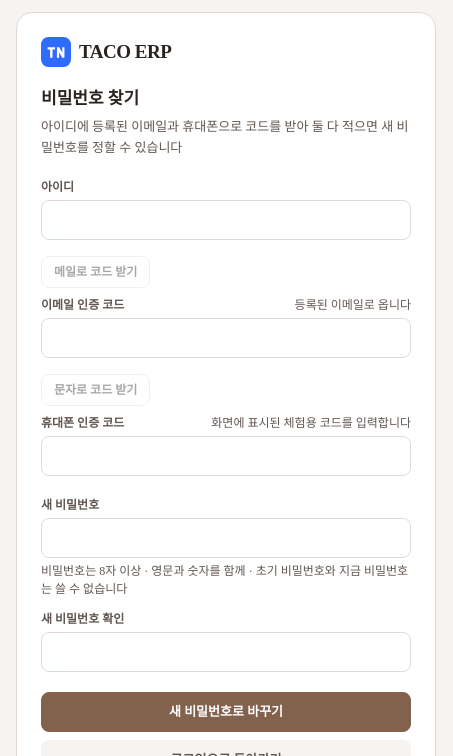
비밀번호 찾기 화면 › 서버 거절 문장을 누른 자리 옆에 그대로 보인다 — 코드 받기는 단추 아래 · 마치기는 마치기 위
Expected: the text "비밀번호는 8자 이상 · 영문과 숫자를 함께 · 초기 비밀번호와 지금 비밀번호는 쓸 수 없습니다" is shown, [41,562,411,598]
Type "kim@tnacademy.kr" into the field labelled "아이디".
click(226, 220); type("kim@tnacademy.kr")  # box [41,200,411,240]
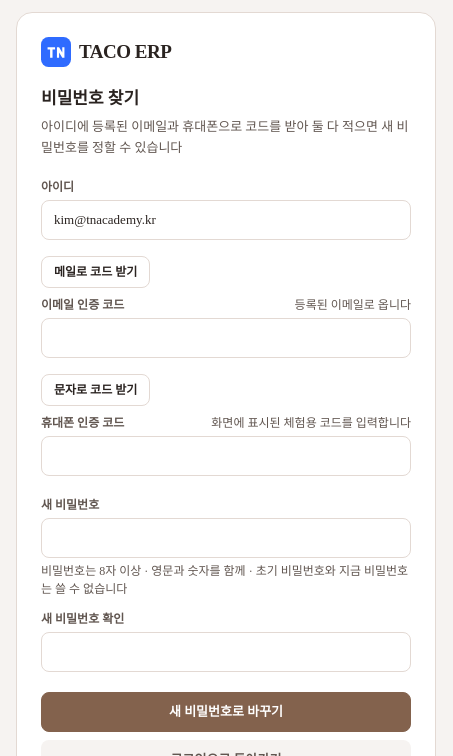
Click the button "문자로 코드 받기".
click(96, 390)  # box [41,374,150,406]
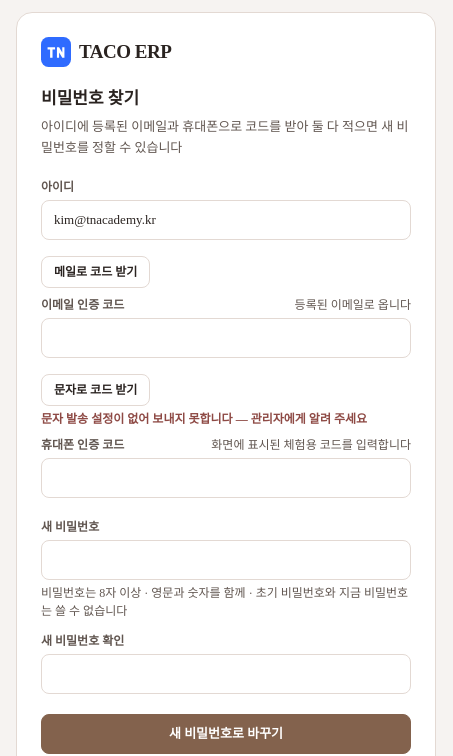
Expected: the message reads "문자 발송 설정이 없어 보내지 못합니다 — 관리자에게 알려 주세요", [41,412,367,426]
Type "111111" into the field labelled "이메일 인증 코드".
click(226, 338); type("111111")  # box [41,318,411,358]
Type "000000" into the field labelled "휴대폰 인증 코드".
click(226, 478); type("000000")  # box [41,458,411,498]
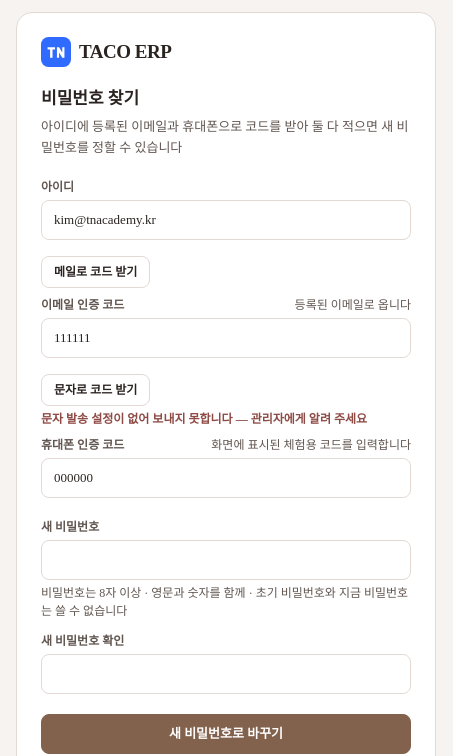
Type "Recovered-77" into the password field labelled "새 비밀번호".
click(226, 560); type("Recovered-77")  # box [41,540,411,580]
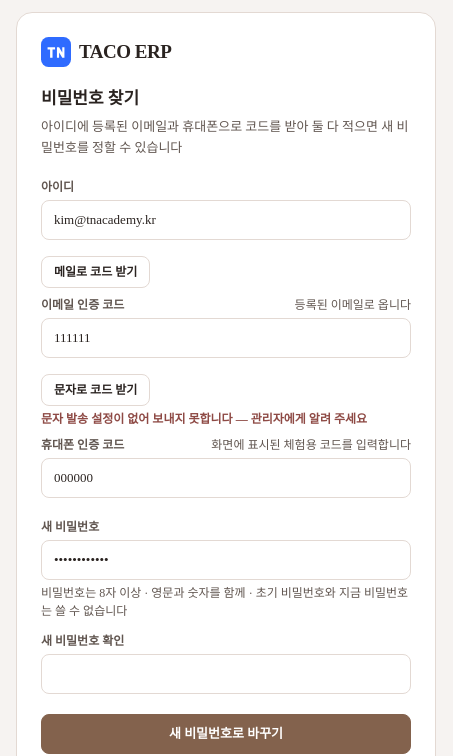
Type "Recovered-77" into the password field labelled "새 비밀번호 확인".
click(226, 674); type("Recovered-77")  # box [41,654,411,694]
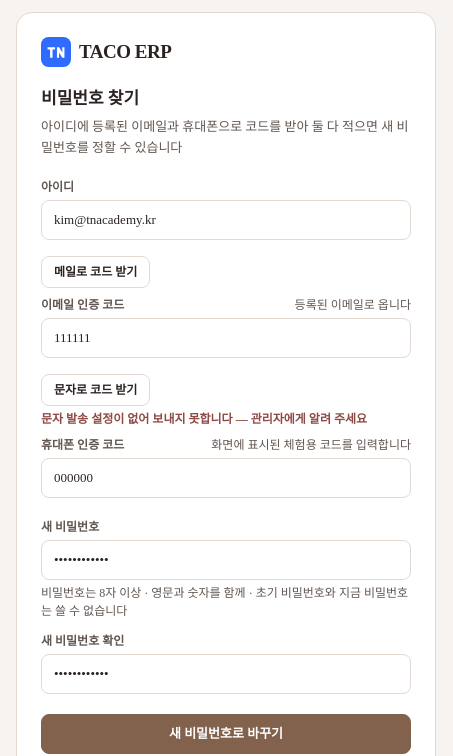
Click the button "새 비밀번호로 바꾸기".
click(226, 734)  # box [41,714,411,754]
(page scrolled)
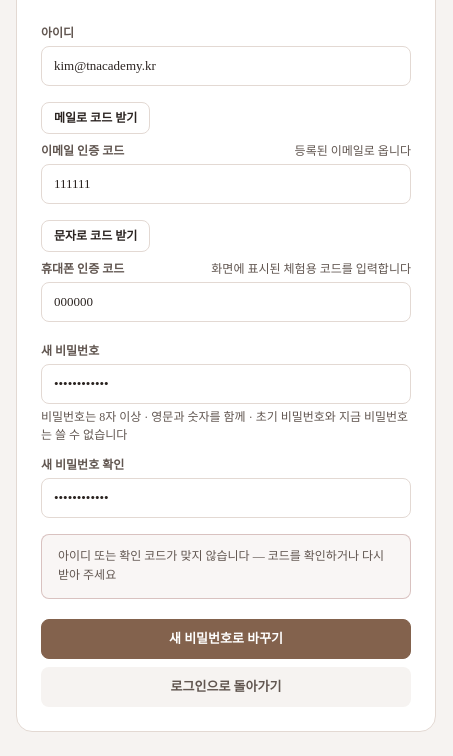
Expected: the button "새 비밀번호로 바꾸기" is enabled, [41,619,411,659]
Expected: the text "아이디 또는 확인 코드가 맞지 않습니다 — 코드를 확인하거나 다시 받아 주세요" is shown, [41,534,411,599]
